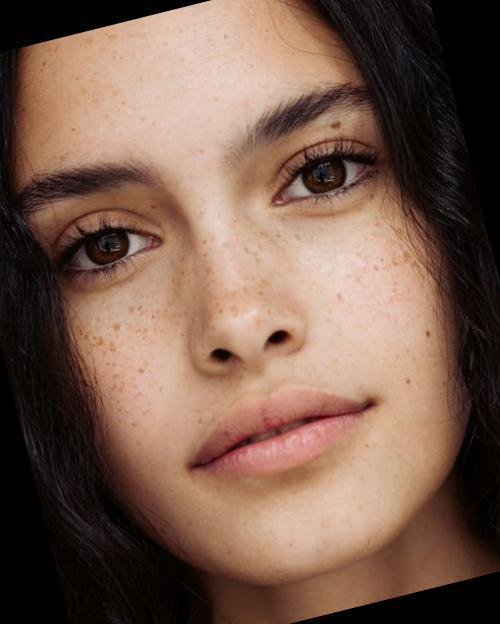Sober: (26, 55, 443, 509)
